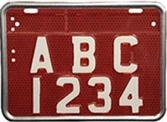Placa_mercosul_carro: (1, 2, 165, 120)
